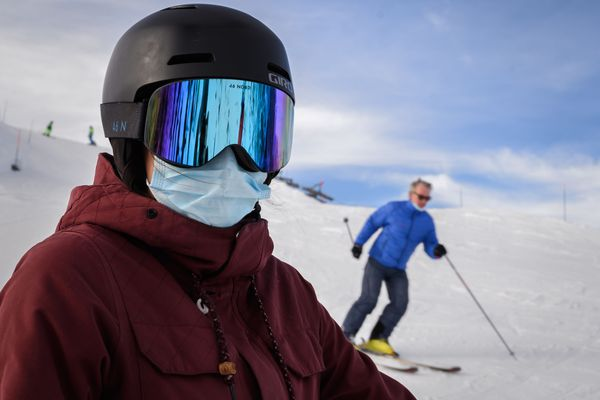with_incorrect_mask: (414, 190, 430, 212)
with_mask: (147, 91, 270, 231)
